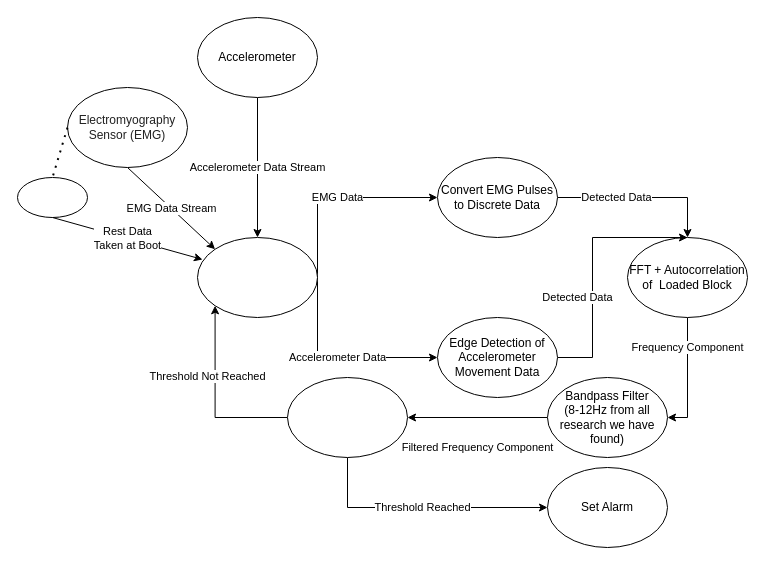
The diagram is 765 pixels wide and 565 high, and some of its shapes have lost their labels. Each missing label, with the centre of its shape:
"Count events over time period (x seconds)" belongs at (347,417).
"Load Block to Memory + Filter Rest Data" belongs at (257,277).
"Rest Data" belongs at (52,197).
